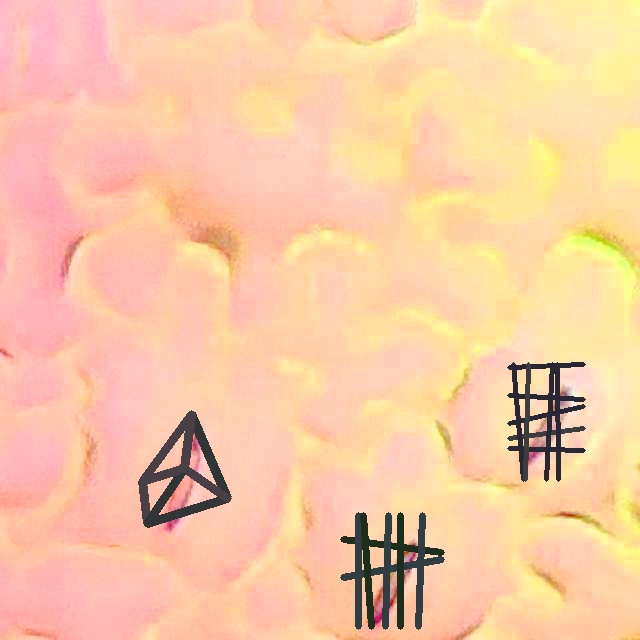open: (340, 512, 444, 629), (138, 410, 231, 527), (507, 362, 585, 481)
